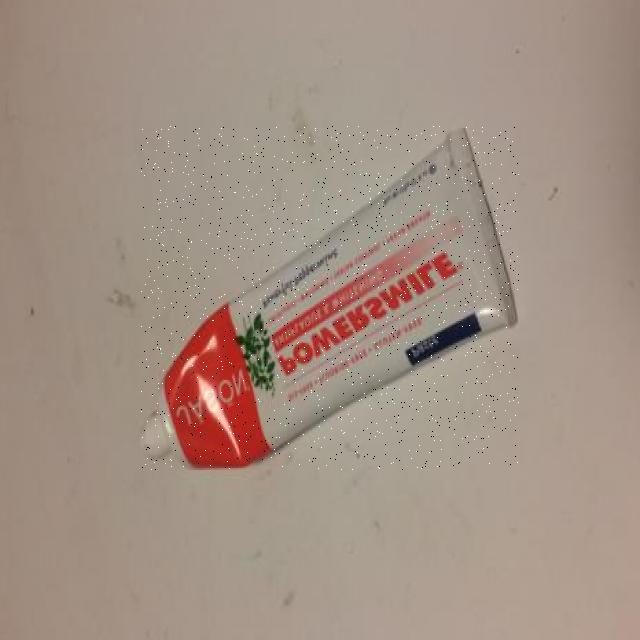plastic: (142, 126, 519, 469)
